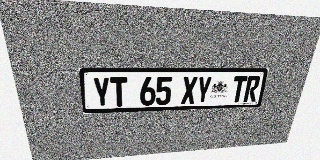5: (156, 77, 172, 105)
6: (140, 77, 156, 106)
R: (243, 76, 261, 102)
T: (110, 77, 128, 107), (230, 76, 248, 102)
X: (181, 76, 198, 104)
Y: (92, 77, 111, 107), (195, 76, 212, 104)
